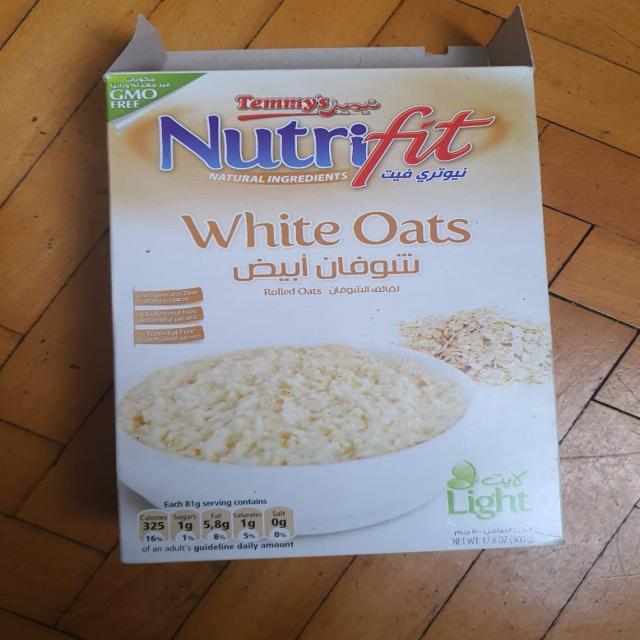cardboard: (77, 6, 562, 568)
